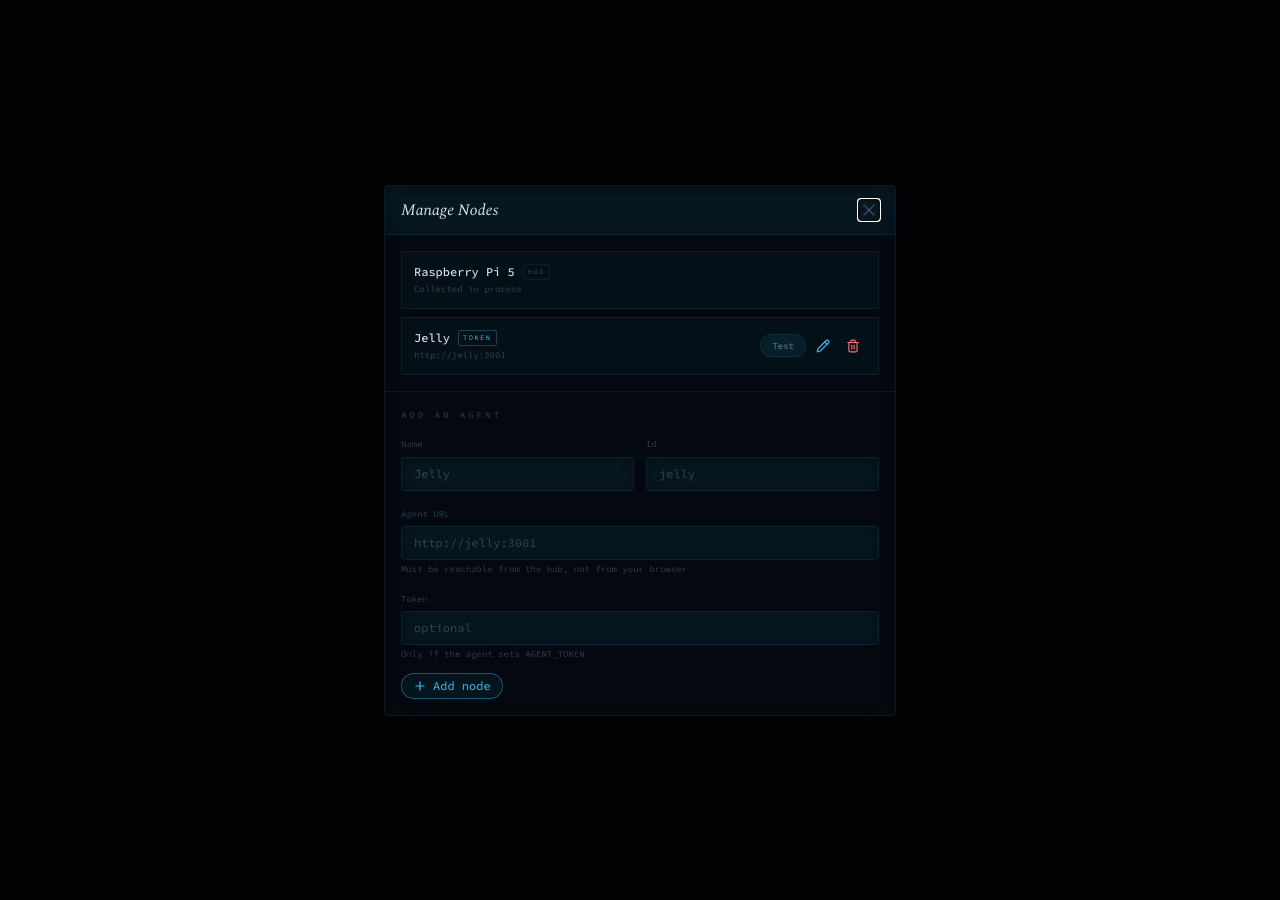
Scenario: editing › loads the node into the form
Click the button titled "Edit Jelly" at point(823, 346), box [810,332,836,358]
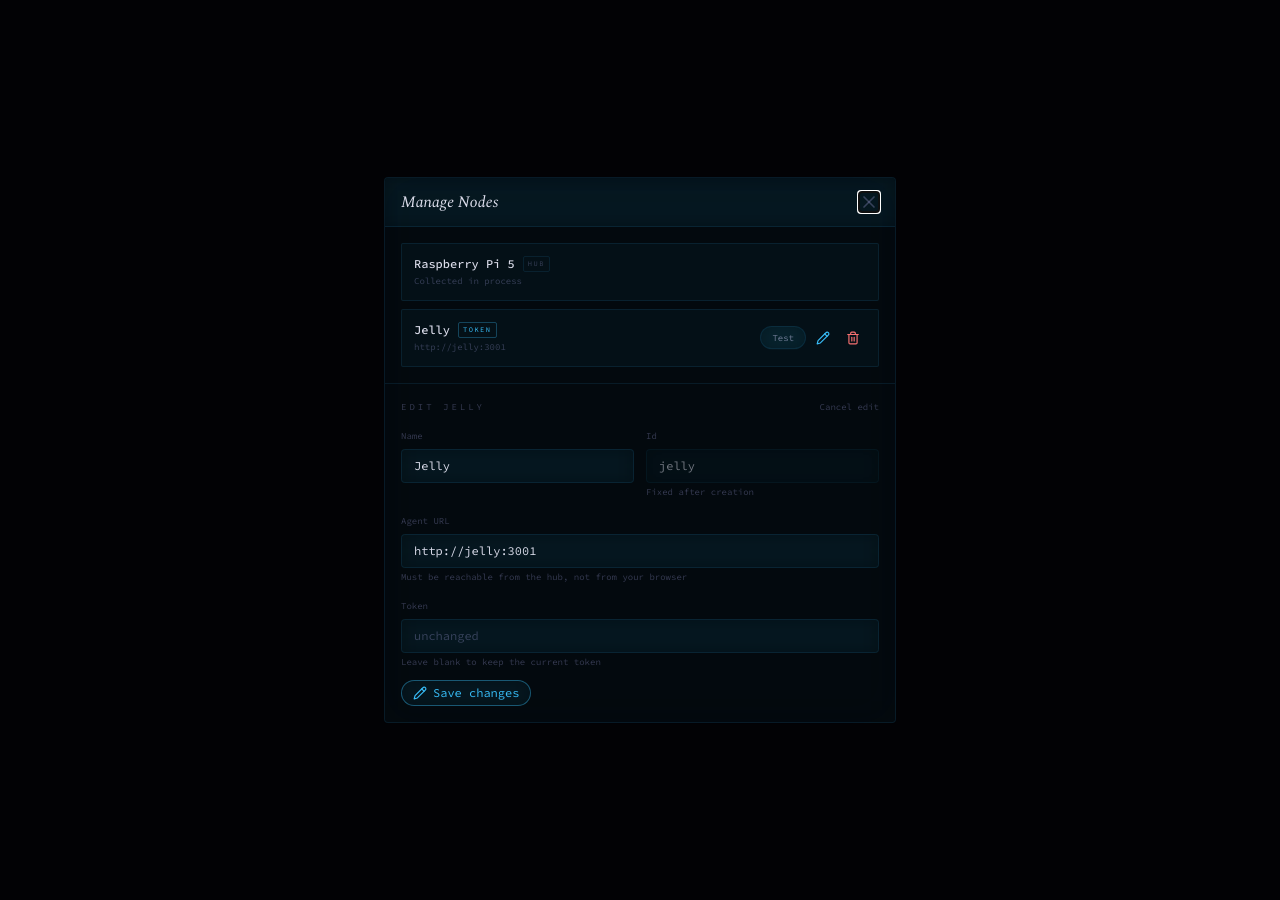
Expected: the heading "Edit jelly" is shown, [401,400,485,413]
Expected: the field with placeholder "http://jelly:3001" holds "http://jelly:3001", [401,534,879,568]
